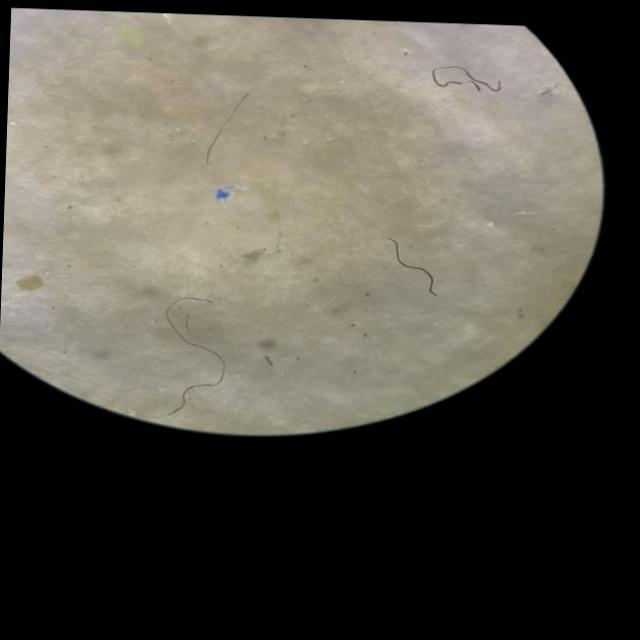fiber: (167, 336, 225, 415), (207, 94, 249, 164), (392, 239, 436, 296), (432, 65, 502, 92), (165, 297, 210, 335)
film: (217, 184, 246, 203)
fragment: (119, 27, 142, 46), (18, 275, 42, 290)
pellet: (488, 223, 492, 227)
